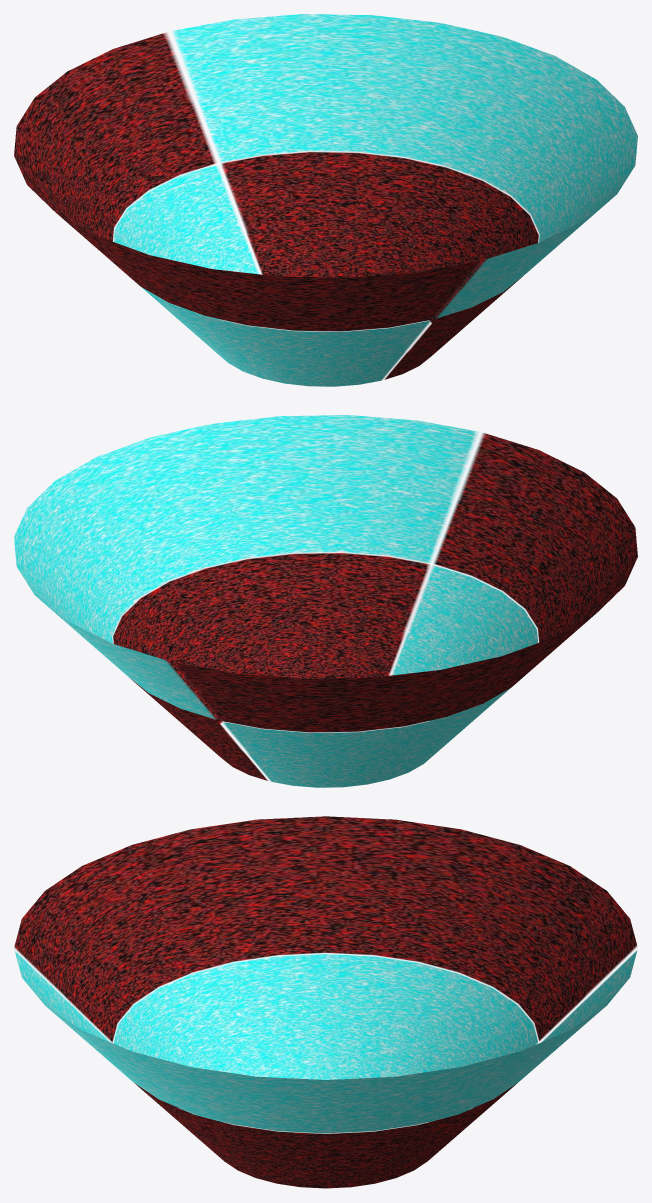
3 renders of one model, top to bottom at view 1: azimuth 30°, elevation 25°; view 2: azimuth 150°, elevation 25°; view 3: azimuth 270°, elevation 25°, orthographic.
Parts seen in each view (by area): view 1: SM_Cyl_Tor_Helix_02_LOD0; view 2: SM_Cyl_Tor_Helix_02_LOD0; view 3: SM_Cyl_Tor_Helix_02_LOD0.
Boxes of the visible parts, x1,y1,x2,y2 form: SM_Cyl_Tor_Helix_02_LOD0: [14, 14, 637, 386]; SM_Cyl_Tor_Helix_02_LOD0: [14, 415, 637, 787]; SM_Cyl_Tor_Helix_02_LOD0: [14, 816, 637, 1188].
Bounding box in the file's own units: 0.439 × 0.1498 × 0.439.
